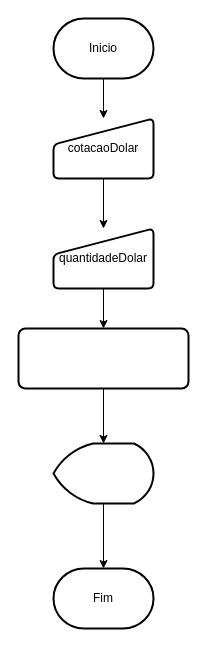
The diagram is 206 pixels wide and 646 high, and some of its shapes have lost their labels. Here are the shapes that lost their labels. From the top down, the centre of each, then its label:
At point 103,358: "valorReais = cotacaoDolar*quantidadeDolar".
At point 103,473: "valorReais".
